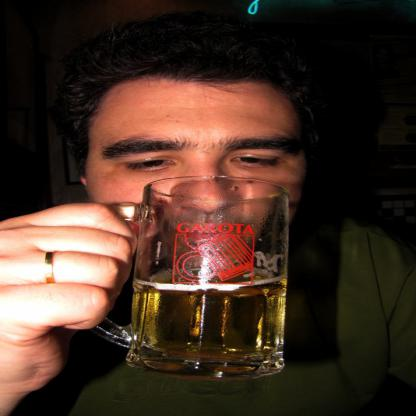drinking: (64, 176, 290, 380)
